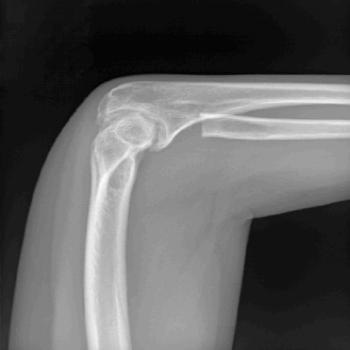Fracture: (179, 110, 219, 143)
